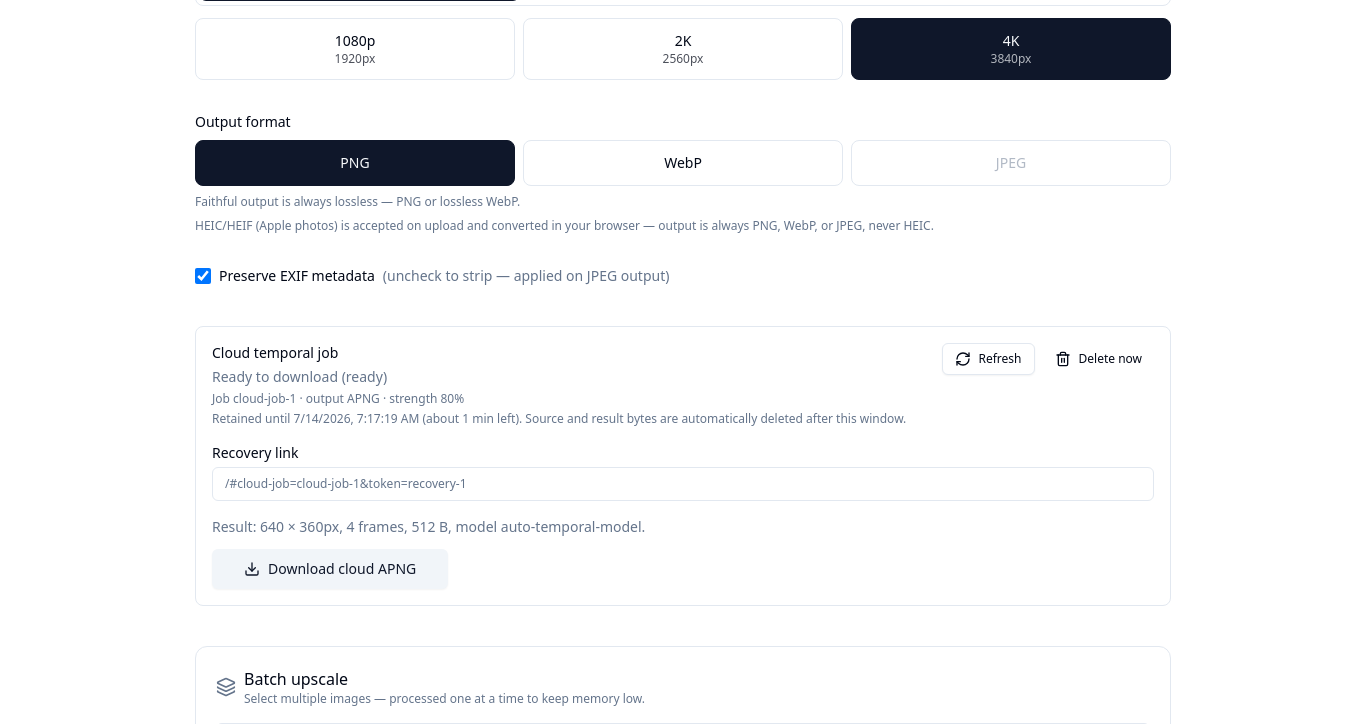
it: cloud job ready result and deletion (issue #59) › deletes a retained cloud job and clears the recovery hash
(page scrolled)
expect the element with test id "cloud-job-panel" is shown: met, box [195,326,1171,606]
Click the button with test id "cloud-job-delete" at (1098, 359), box [1042,343,1154,375]
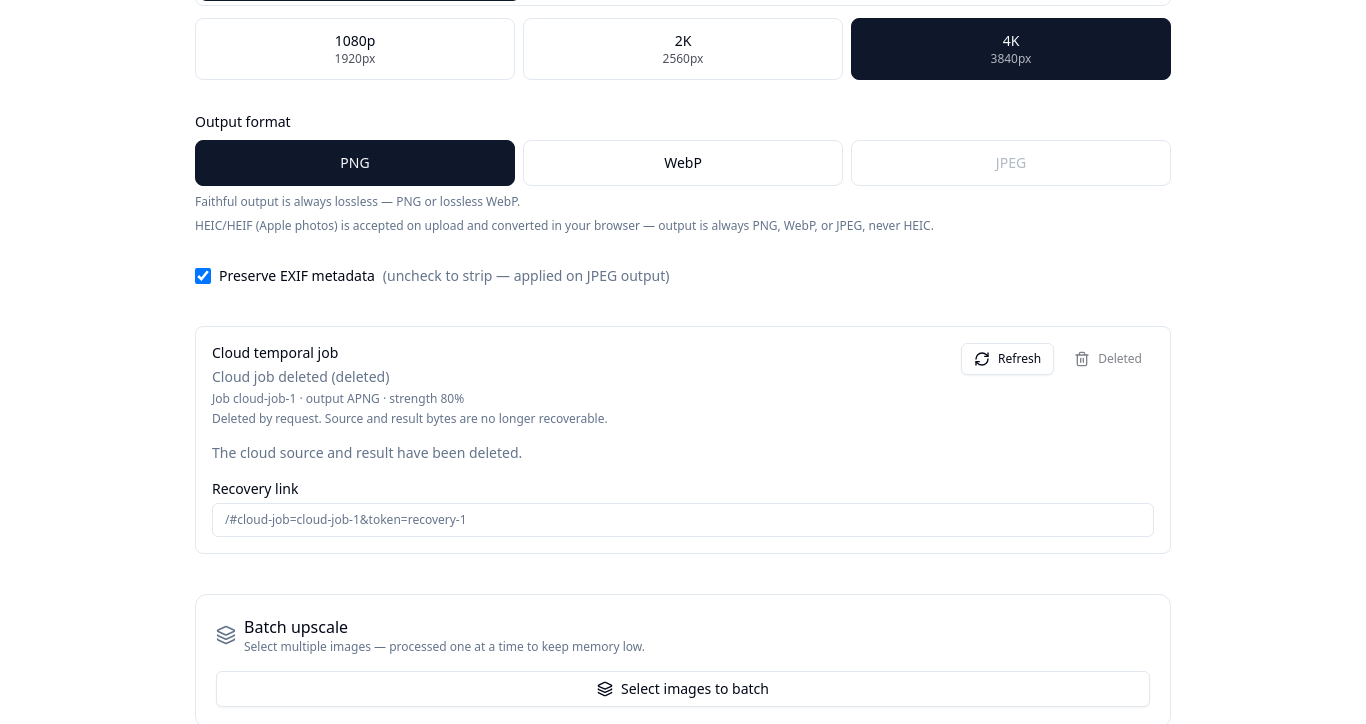
expect the text with test id "cloud-job-status" shows "deleted": met, box [336,367,385,386]
expect the link with test id "cloud-result-download" is gone: met
expect the button with test id "cloud-job-delete" is disabled: met, box [1062,343,1154,375]
